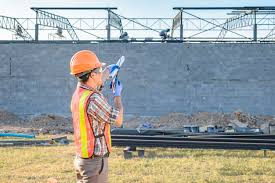helmet: (64, 48, 101, 71)
vest: (69, 90, 117, 154)
